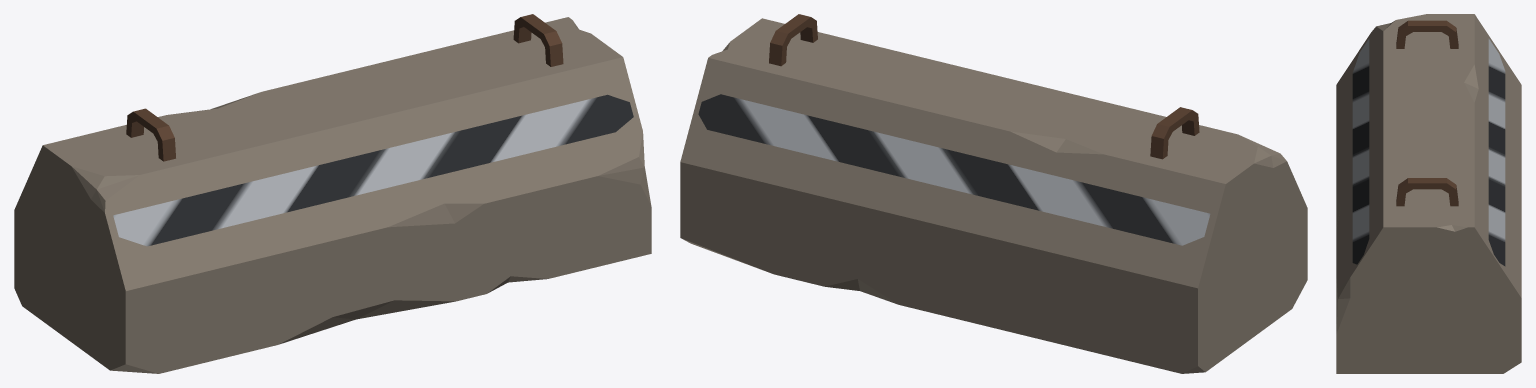
The model's file is SM_Prop_Barricade_Concrete_01.fbx.
3 renders of one model, left to right at view 1: azimuth 30°, elevation 25°; view 2: azimuth 150°, elevation 25°; view 3: azimuth 270°, elevation 25°, orthographic. The views are drawn at different scales.
Parts seen in each view (by area): view 1: SM_Prop_Barricade_Concrete_01; view 2: SM_Prop_Barricade_Concrete_01; view 3: SM_Prop_Barricade_Concrete_01.
Boxes of the visible parts, <box> form: SM_Prop_Barricade_Concrete_01: <box>14,14,651,373</box>; SM_Prop_Barricade_Concrete_01: <box>680,14,1307,373</box>; SM_Prop_Barricade_Concrete_01: <box>1336,14,1521,373</box>.
Bounding box in the file's own units: 200 × 74.13 × 73.37.
